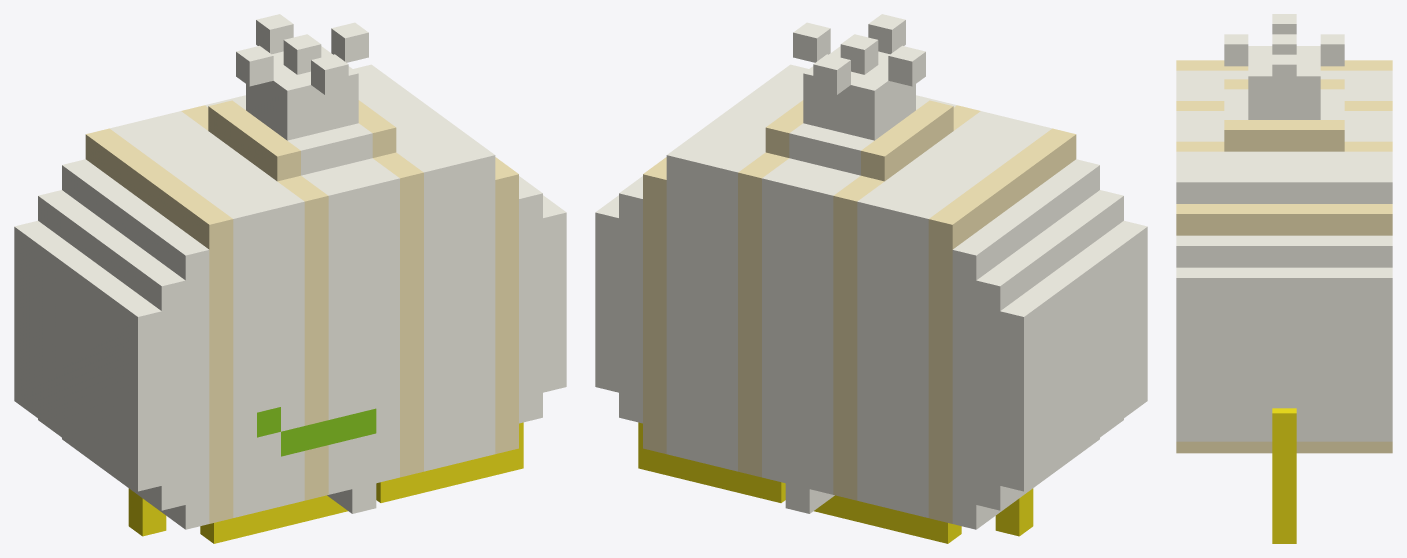
File: garlic.glb
The picture shows the model from 3 angles, left to right: view 1: azimuth 30°, elevation 25°; view 2: azimuth 150°, elevation 25°; view 3: azimuth 270°, elevation 25°; orthographic projection. The views are drawn at different scales.
Parts seen in each view (by area): view 1: base, glasses, mouth, a1; view 2: base, glasses, a1; view 3: base, glasses.
Boxes of the visible parts, x1=… form: base: x1=14, y1=14, x2=566, y2=529; glasses: x1=128, y1=422, x2=523, y2=543; mouth: x1=257, y1=407, x2=376, y2=456; a1: x1=327, y1=483, x2=376, y2=513; base: x1=595, y1=14, x2=1147, y2=529; glasses: x1=638, y1=422, x2=1033, y2=543; a1: x1=785, y1=483, x2=834, y2=513; base: x1=1176, y1=14, x2=1392, y2=453; glasses: x1=1272, y1=408, x2=1296, y2=543.
Size of the model in its own units: 18.5 by 19 by 9.
Materials: 9 (9 with a texture image).
